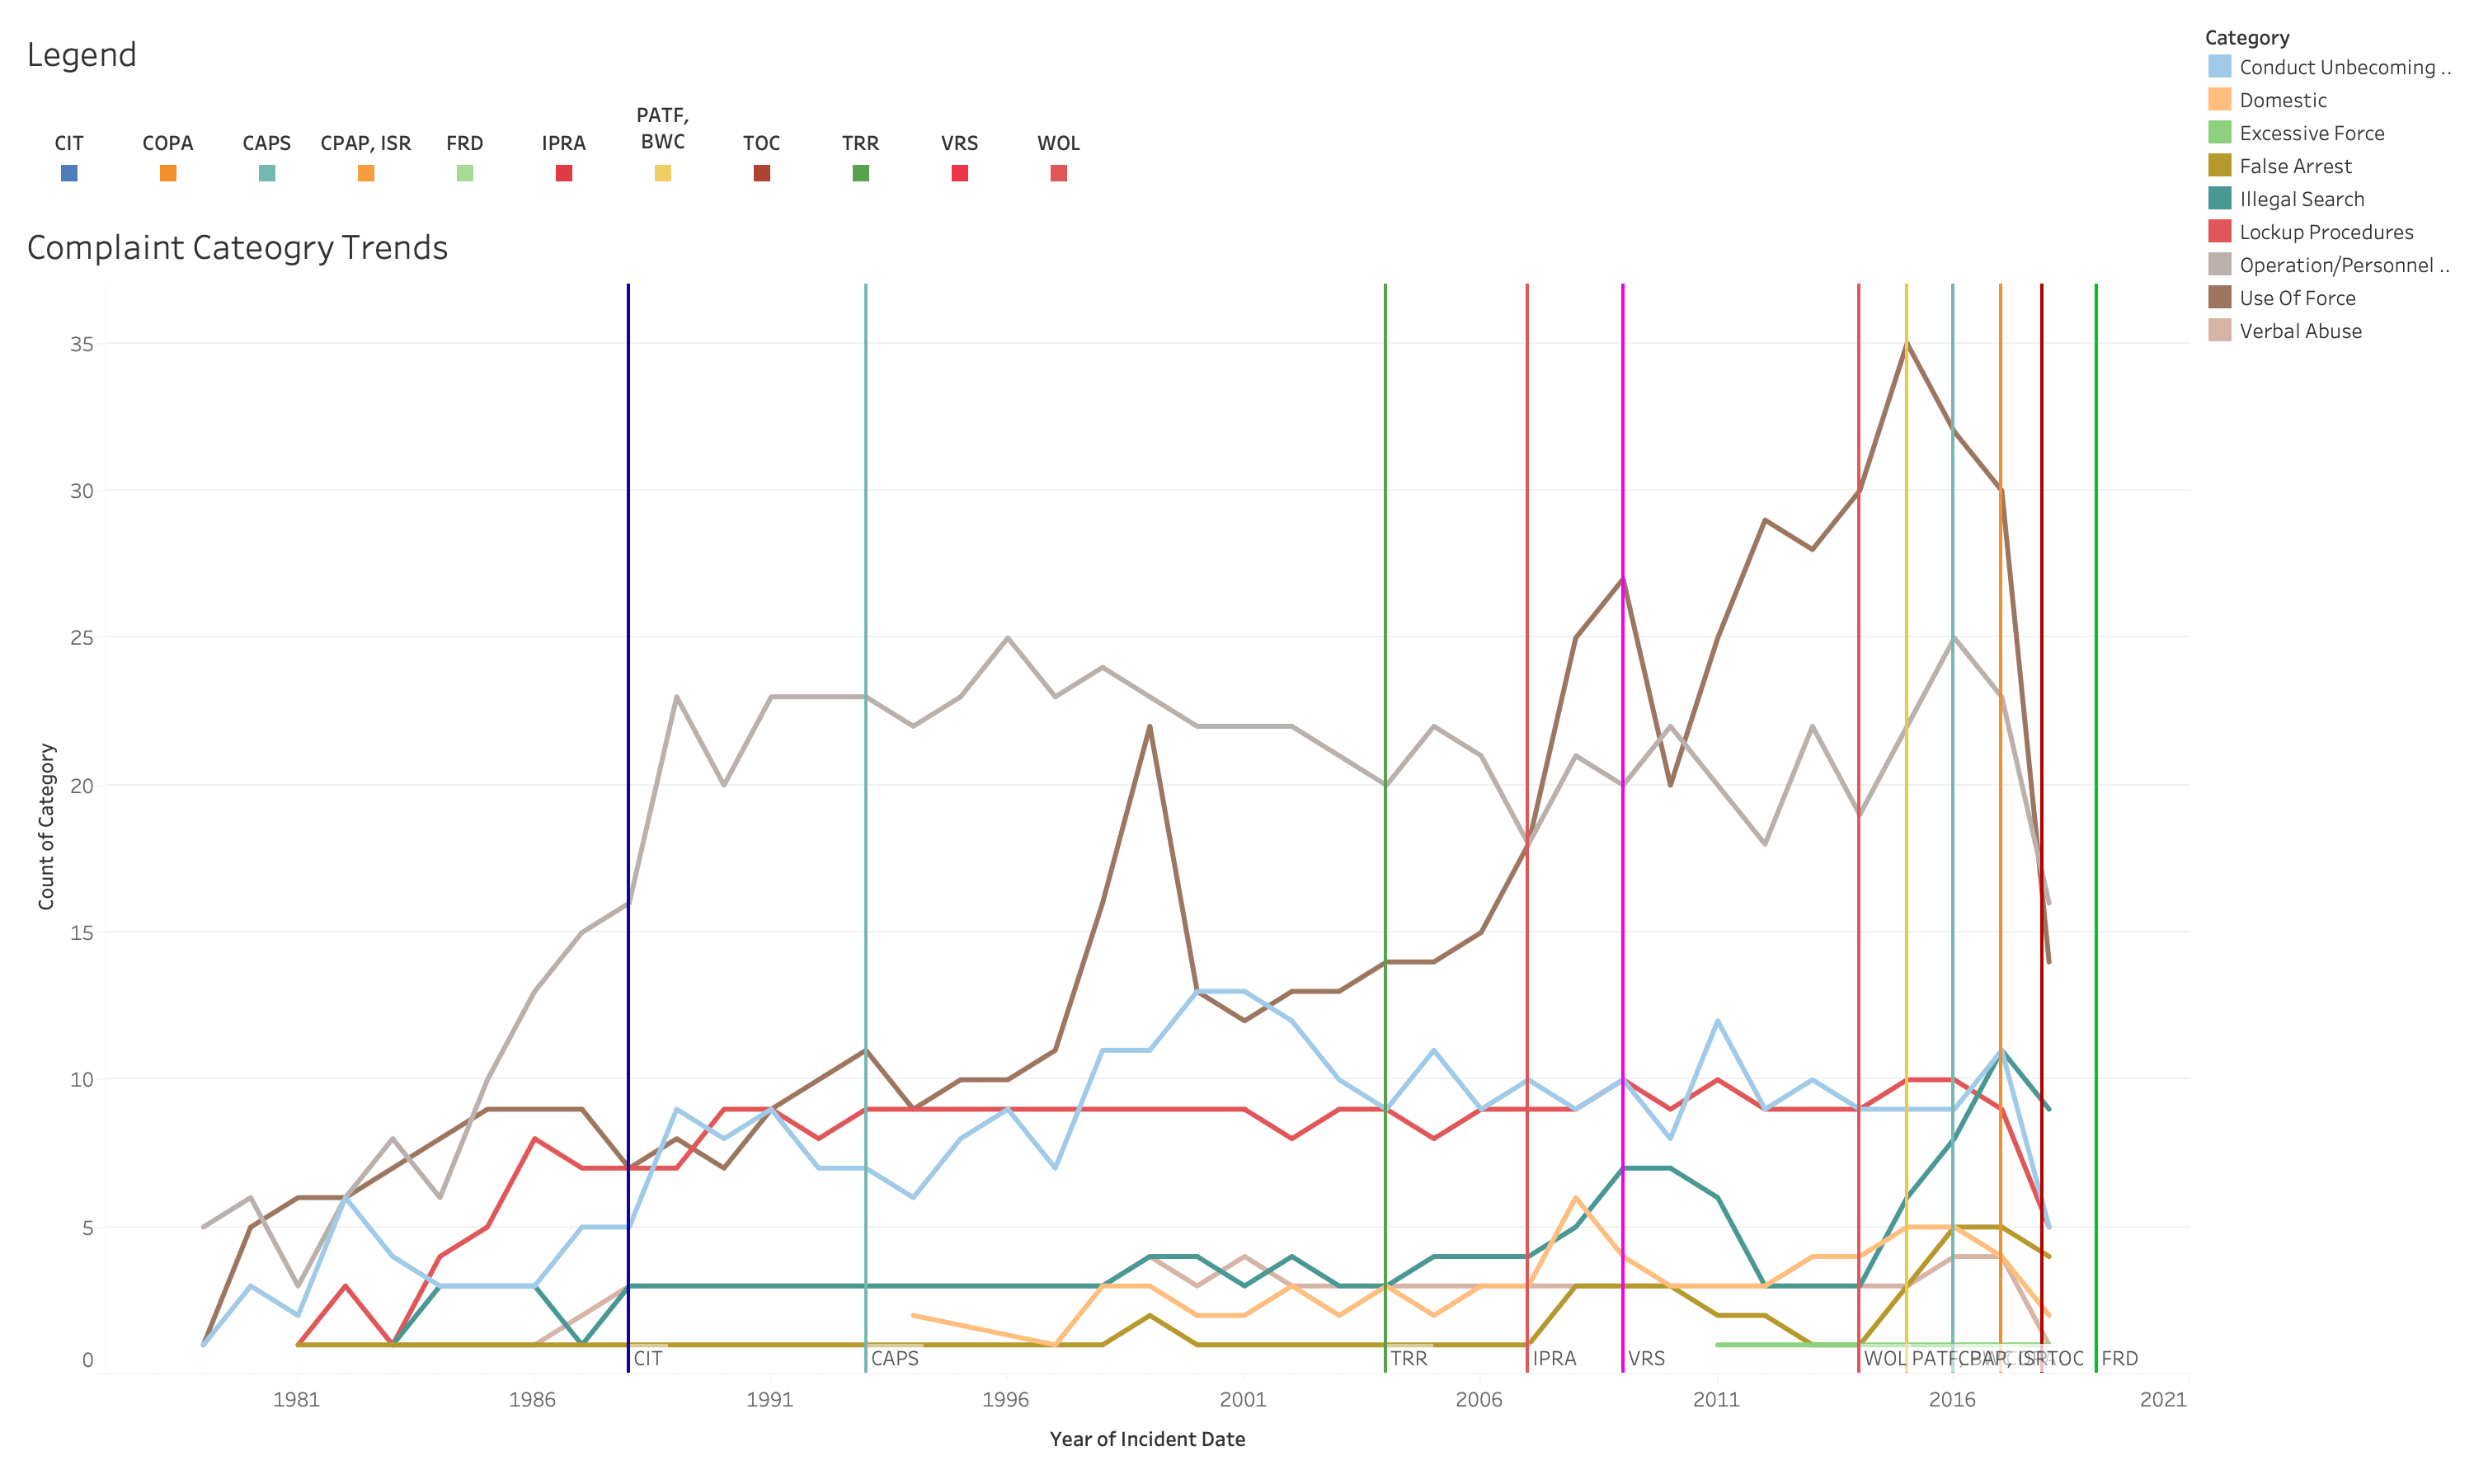

The dashboard page shown, as its layout file describes it:
{"tool":"tableau","page":{"name":"Viz 2","canvas":[1000,1000],"units":"permille","ordinal":1},"visuals":[{"type":"worksheet","title":"legend","mark":"Square","box":[5.3,8.9,882.7,130.3]},{"type":"legend","title":"Complaint Cateogry Trends","param":"[federated.1b0pa4i1ec3ry010a1tgf1q66knt].[none:category:nk]","box":[888,8.9,106.7,228.9]},{"type":"worksheet","title":"Complaint Cateogry Trends","mark":"Automatic","rows":["category"],"cols":["incident_date"],"box":[5.3,139.2,882.7,851.9]}]}

Visuals, with their boxes on the dashboard's canvas, which has no fixed pixel size, in thousandths of its width and height (x1, y1, x2, y2). These are canvas units, not pixel positions in the 2474x1484 screenshot, which may show the page scaled, cropped or inside an application window:
"legend" worksheet (Square marks): 5,9,888,139
"Complaint Cateogry Trends" legend: 888,9,995,238
"Complaint Cateogry Trends" worksheet: 5,139,888,991
